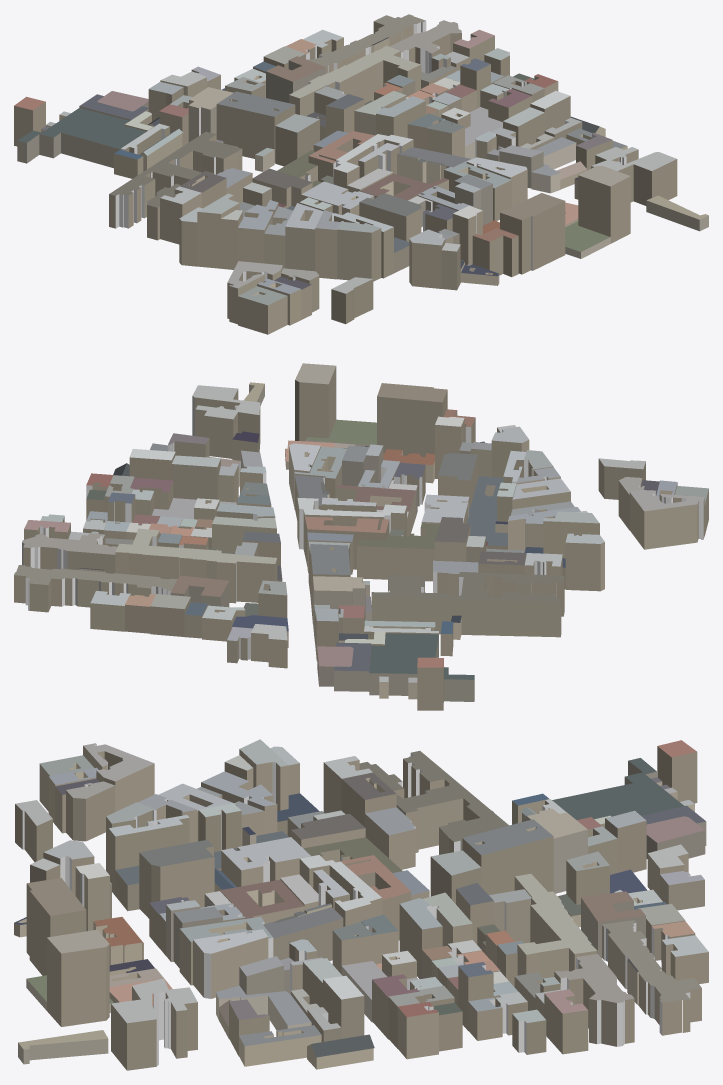
The picture shows the model from 3 angles, top to bottom: view 1: azimuth 30°, elevation 25°; view 2: azimuth 150°, elevation 25°; view 3: azimuth 270°, elevation 25°; orthographic projection. The views are drawn at different scales.
Parts seen in each view (by area): view 1: tuile; view 2: tuile; view 3: tuile.
Boxes of the visible parts, bbox=[...] form: tuile: bbox=[14, 14, 708, 334]; tuile: bbox=[14, 363, 708, 710]; tuile: bbox=[14, 739, 708, 1070].
Bounding box in the file's own units: 262 × 33.45 × 266.
